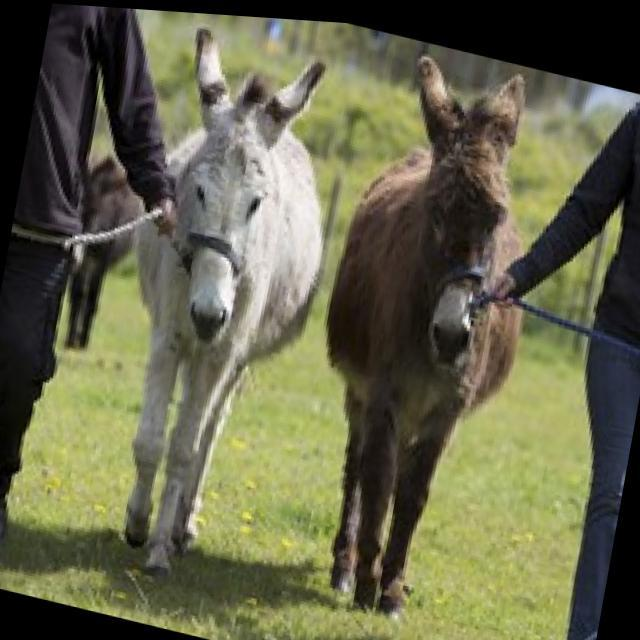Donkey: (43, 2, 357, 608), (279, 40, 585, 640)
